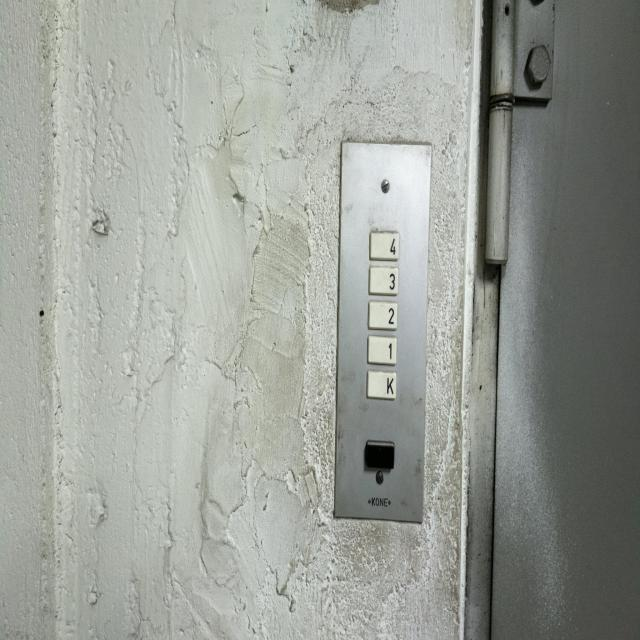1: (365, 333, 397, 368)
2: (366, 297, 398, 331)
3: (368, 264, 400, 299)
4: (368, 229, 400, 262)
K: (365, 366, 397, 402)
empty: (364, 437, 395, 471)
